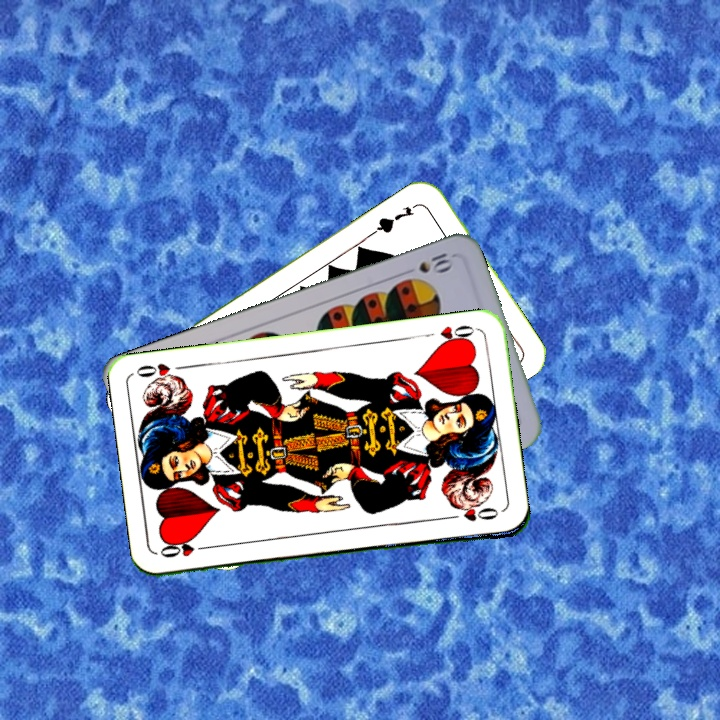G7: (369, 198, 422, 237)
HO: (420, 321, 479, 349), (156, 541, 215, 561)
S10: (414, 248, 457, 276)
